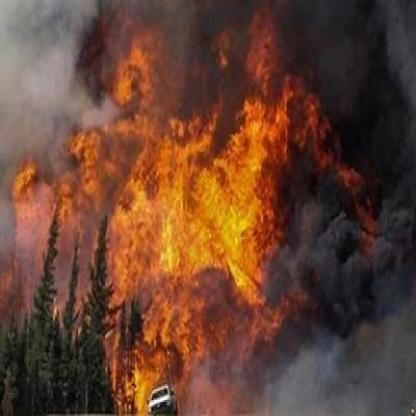fire: (15, 33, 338, 413)
smoke: (274, 2, 410, 407), (76, 4, 380, 82)
